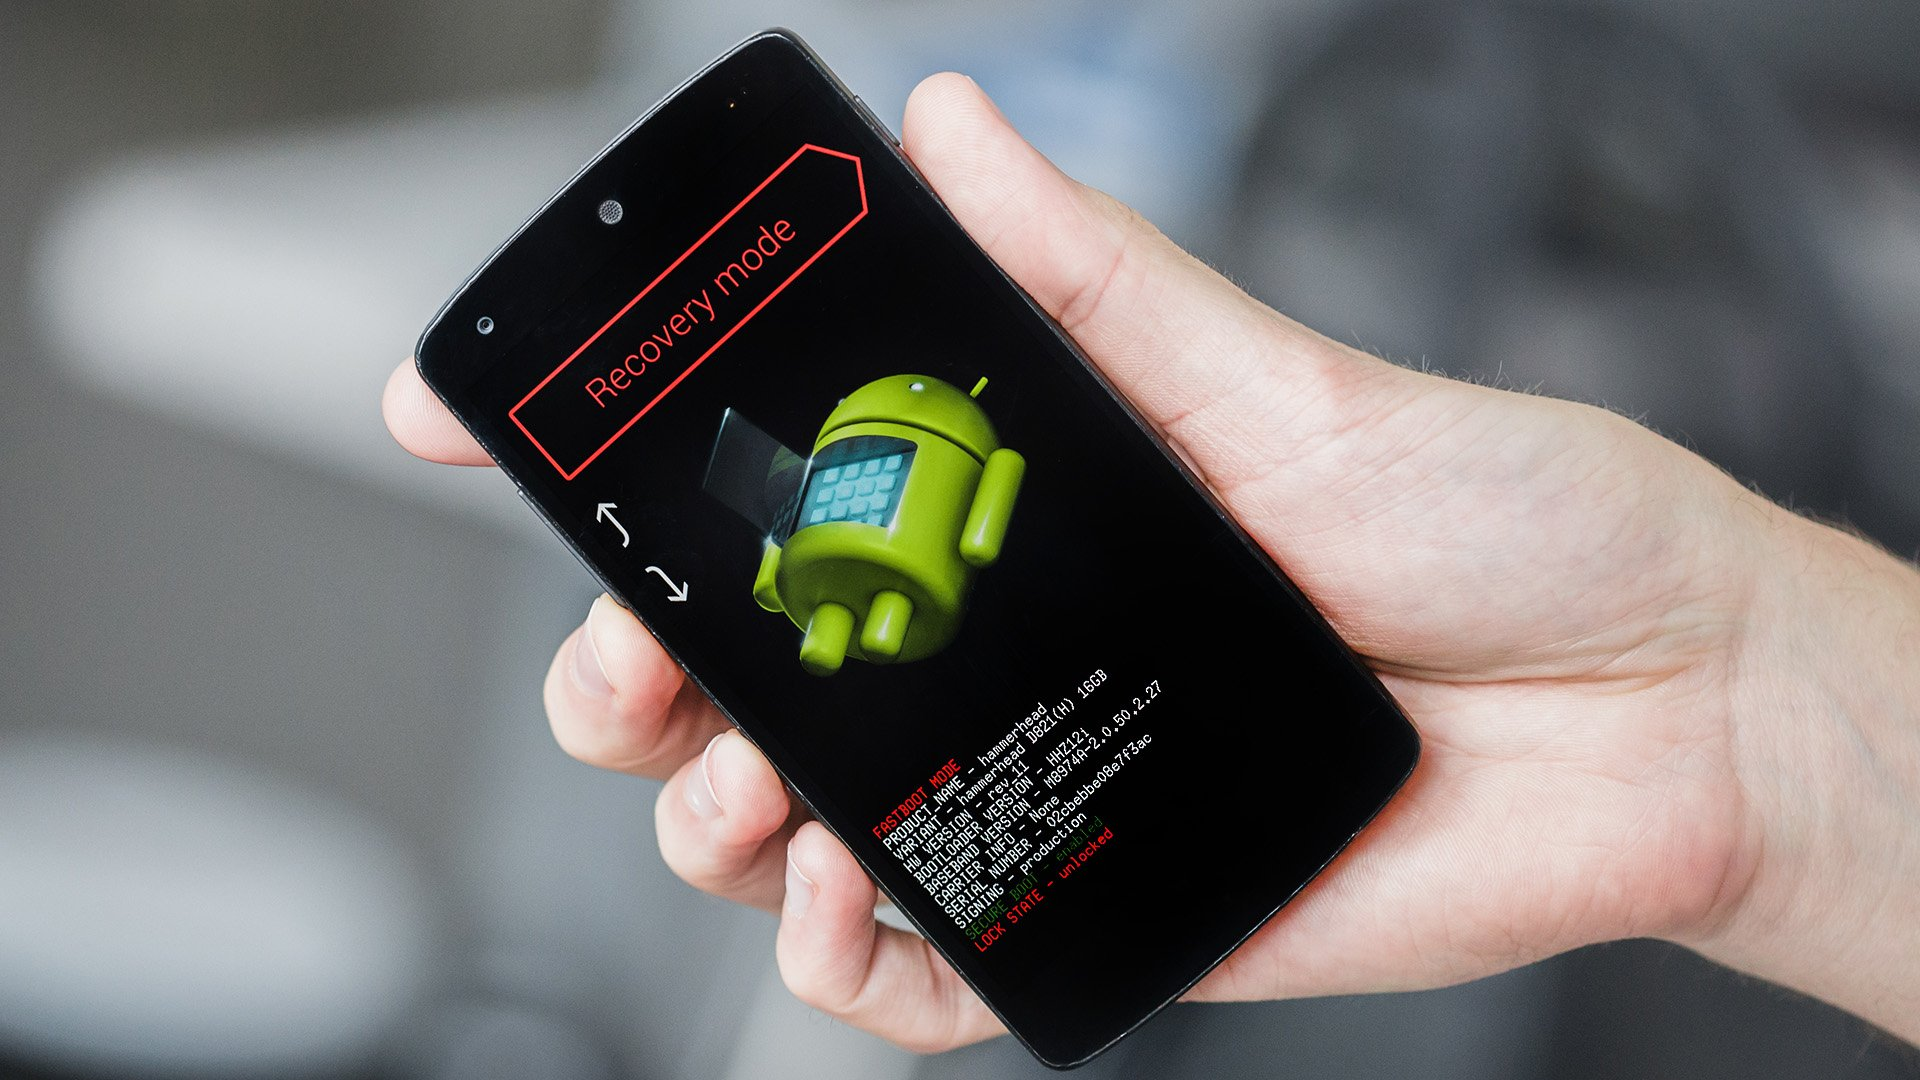smartphone: (413, 26, 1425, 1071)
